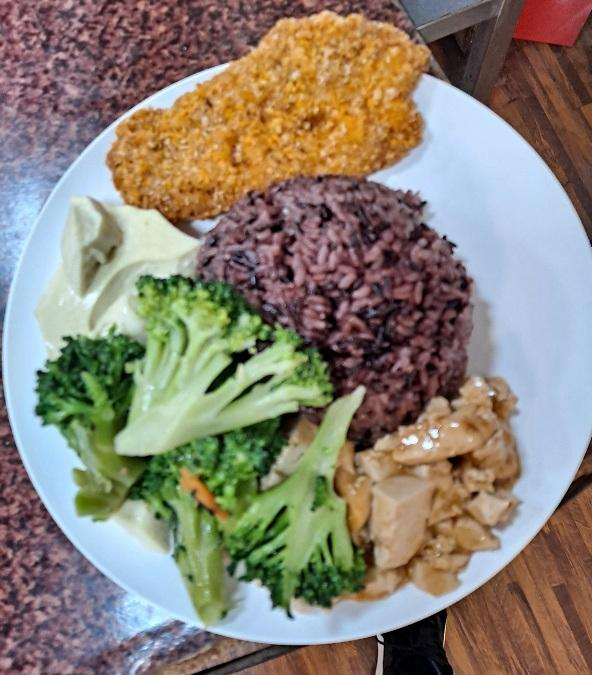big fried chicken leg: (0, 29, 592, 655)
braised fish: (190, 168, 481, 436)
braised fish fillet: (34, 276, 361, 616), (313, 380, 526, 610), (40, 187, 213, 350)
braised pork: (114, 7, 427, 224)
